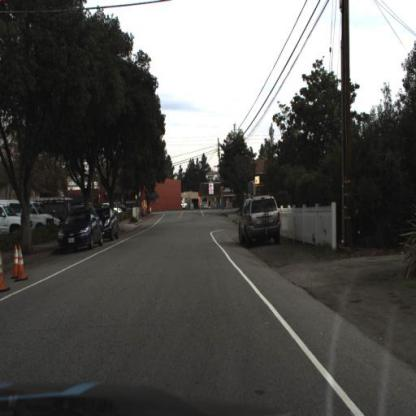car: (238, 194, 282, 251), (57, 205, 106, 254), (237, 195, 281, 249), (54, 204, 102, 253), (1, 204, 35, 242), (19, 204, 55, 238), (94, 207, 120, 243), (102, 205, 124, 243), (1, 220, 17, 252)
